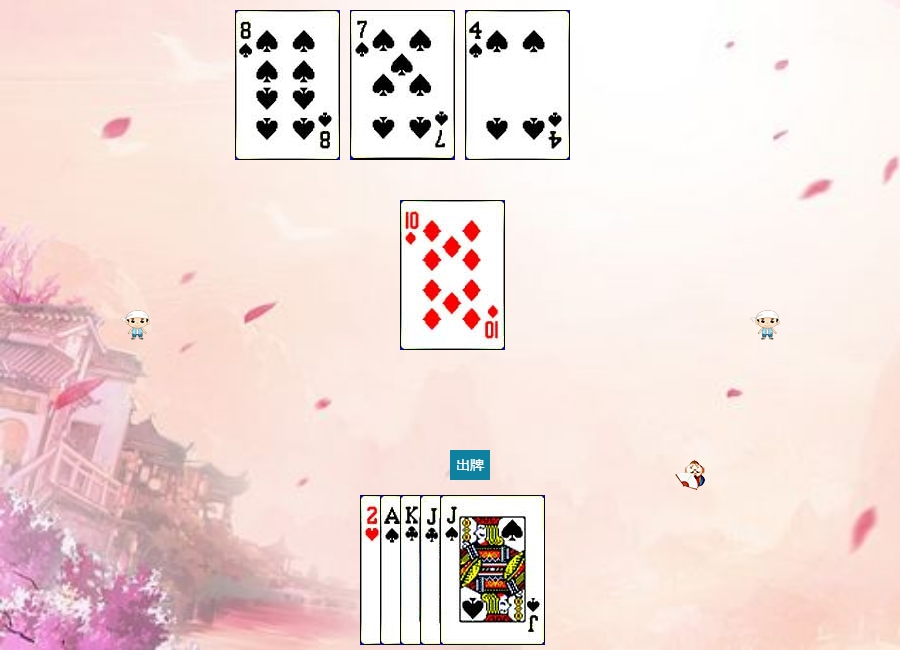10~1: (400, 200, 505, 350)
11~2: (420, 495, 525, 645)
11~4: (440, 495, 545, 645)
13~2: (400, 495, 505, 645)
14~4: (380, 495, 485, 645)
15~3: (360, 495, 465, 645)
4~4: (465, 10, 570, 160)
7~4: (350, 10, 455, 160)
8~4: (235, 10, 340, 160)
